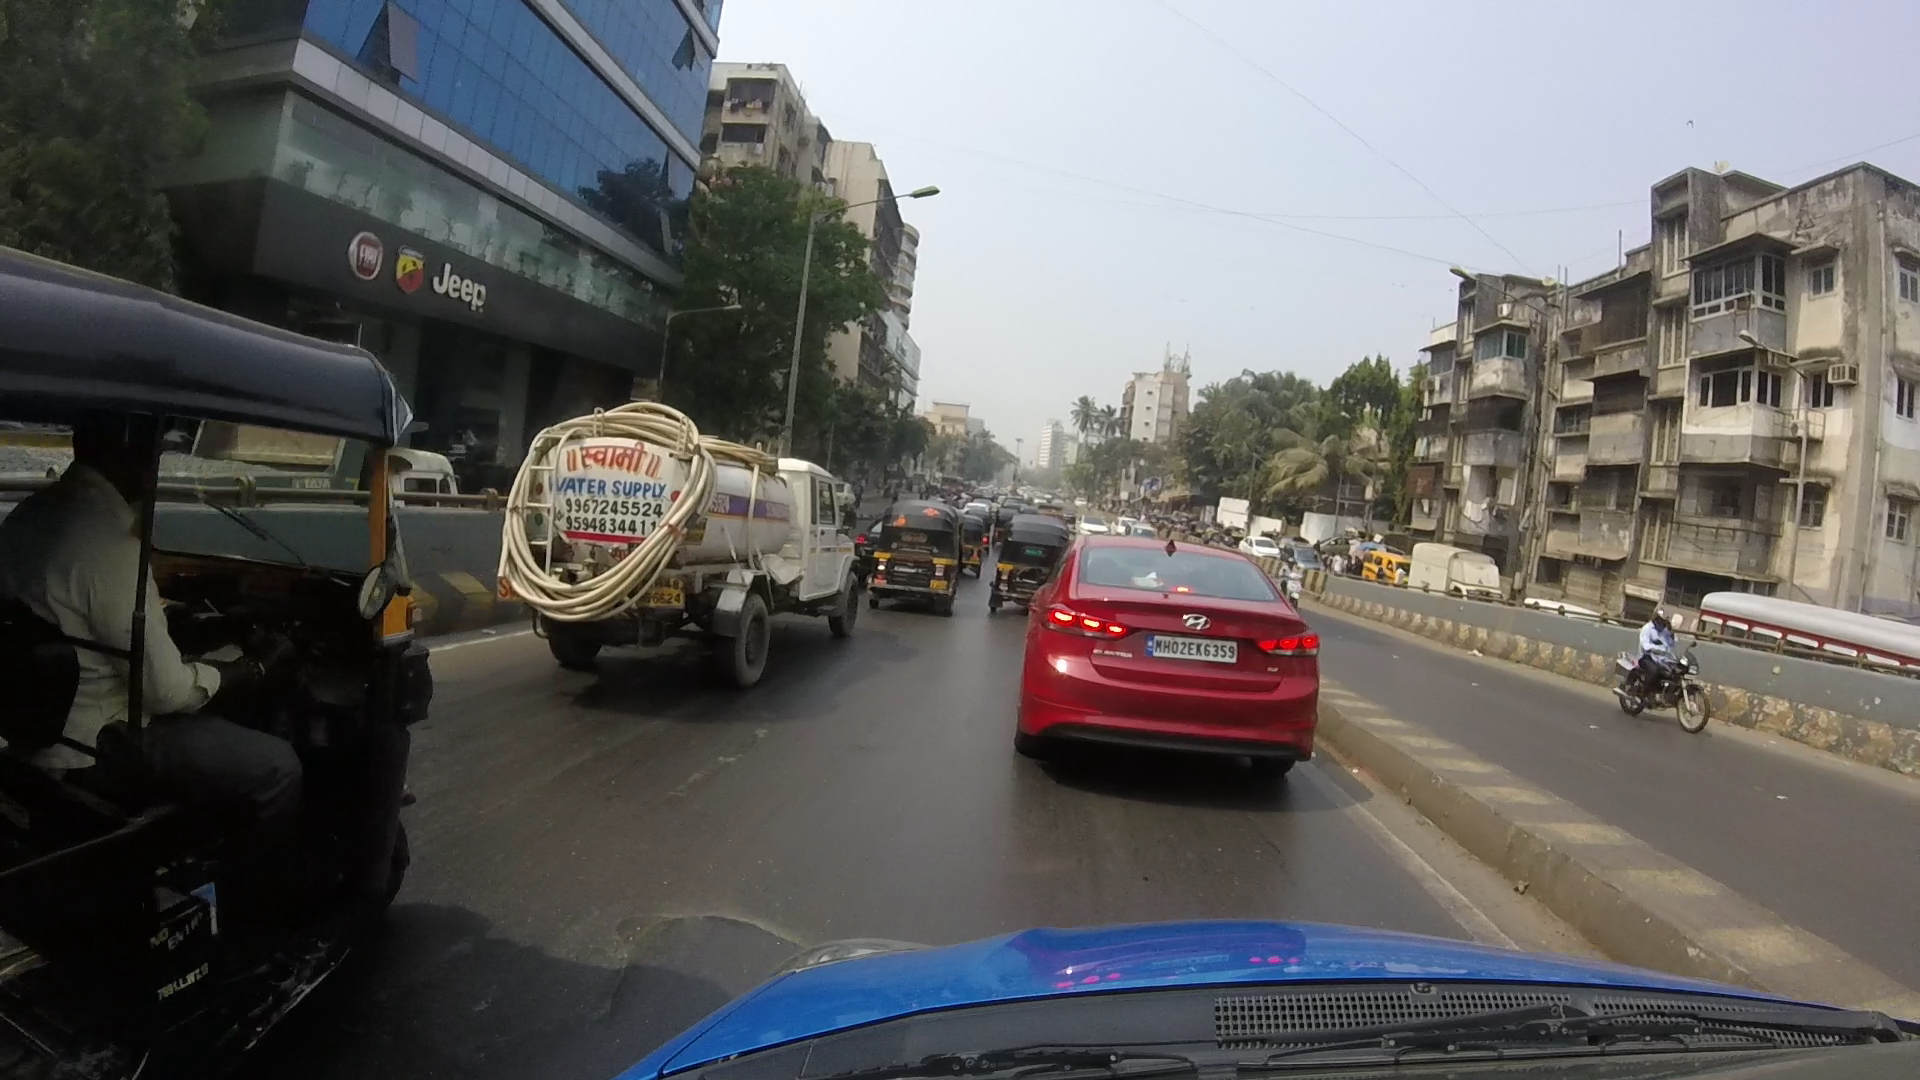bike/scooter: (1598, 601, 1721, 740)
car: (1021, 510, 1327, 787)
rickshaw: (7, 269, 442, 1060), (862, 487, 963, 632), (996, 492, 1087, 618)
truck: (495, 390, 872, 678)
